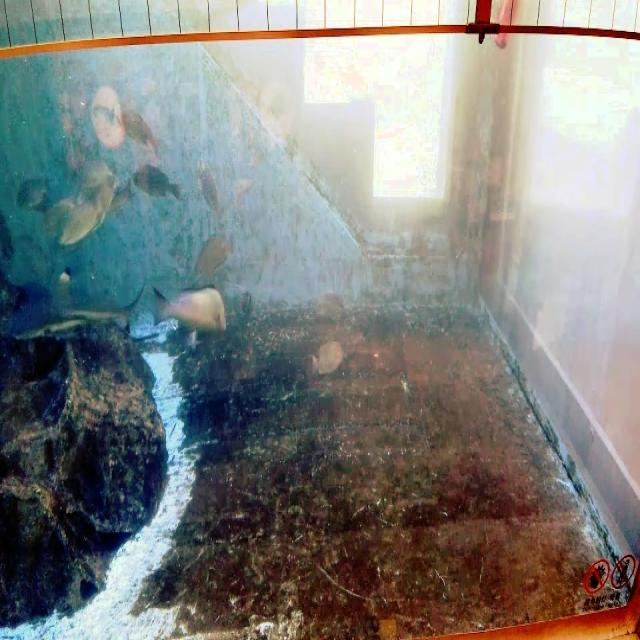gold snapper: (185, 220, 244, 290), (52, 187, 112, 251), (119, 100, 165, 157), (299, 333, 350, 384), (12, 158, 52, 216), (130, 161, 186, 201), (192, 156, 224, 219)
other black fish: (149, 272, 233, 350)
shark: (0, 257, 151, 352)
